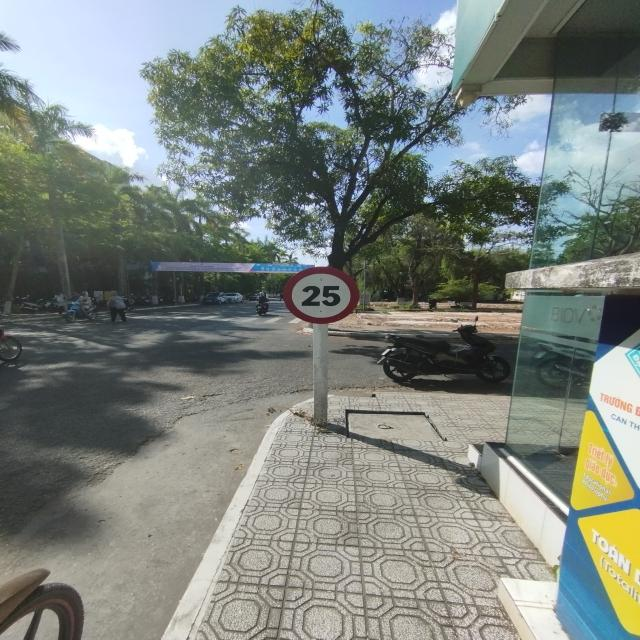Tre_Em: (283, 265, 362, 325)
